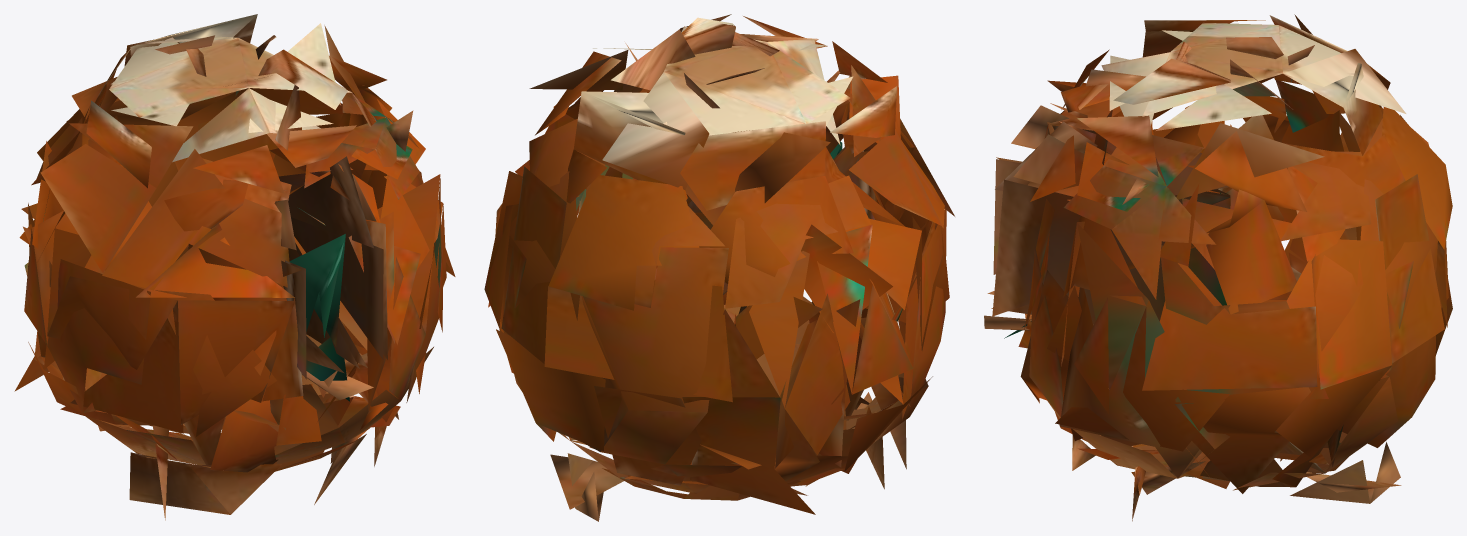
File: feed-tank.lod1.glb
3 views of the same model, side by side, from view 1: azimuth 30°, elevation 25°; view 2: azimuth 150°, elevation 25°; view 3: azimuth 270°, elevation 25° (orthographic). The views are drawn at different scales.
Parts seen in each view (by area): view 1: feed-tank; view 2: feed-tank; view 3: feed-tank.
Part boxes in pixels (box(x1,y1,x2,y2)): feed-tank: box(14, 14, 455, 520); feed-tank: box(484, 14, 954, 521); feed-tank: box(984, 14, 1452, 521).
Size of the model in its own units: 0.8186 by 0.8621 by 0.8416.
Materials: 1 (1 with a texture image).
